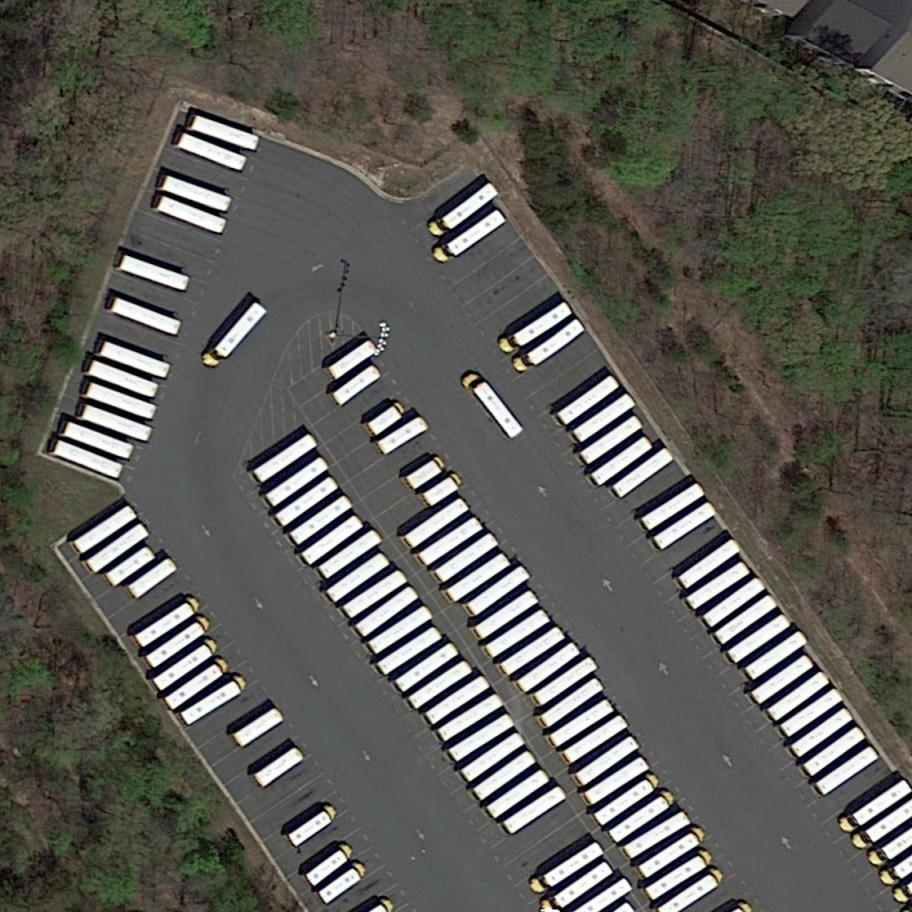large-vehicle: (199, 300, 269, 372), (429, 206, 507, 267), (509, 317, 588, 377), (527, 837, 605, 897), (461, 368, 524, 442), (425, 182, 502, 241), (496, 299, 573, 357), (537, 861, 617, 912), (592, 772, 664, 828), (144, 614, 215, 670), (151, 637, 222, 692), (162, 656, 233, 711), (638, 824, 709, 879), (353, 581, 420, 639), (402, 494, 471, 550), (416, 513, 486, 568), (317, 525, 385, 581), (324, 549, 392, 605), (393, 640, 462, 695), (608, 789, 677, 844), (459, 730, 528, 785), (134, 595, 204, 649), (644, 848, 715, 901), (621, 808, 692, 861), (533, 654, 600, 710), (788, 704, 855, 760), (743, 627, 810, 683), (424, 671, 492, 726), (264, 454, 332, 509), (273, 474, 341, 529), (288, 493, 356, 548), (485, 766, 553, 821), (252, 432, 321, 486), (179, 674, 250, 726), (300, 512, 367, 567), (571, 390, 638, 445), (749, 651, 816, 706), (376, 623, 444, 677), (72, 502, 140, 556), (366, 604, 435, 657), (583, 753, 652, 806), (539, 675, 605, 730), (677, 537, 744, 591), (589, 434, 656, 488), (574, 733, 641, 787), (778, 685, 845, 739), (473, 588, 541, 641), (725, 612, 793, 665), (548, 696, 616, 749), (448, 711, 517, 763), (517, 641, 582, 696), (802, 723, 867, 778), (434, 529, 500, 583), (714, 592, 780, 646), (342, 568, 409, 621), (407, 658, 474, 711), (684, 559, 751, 612), (500, 625, 567, 678), (640, 479, 707, 532), (502, 783, 569, 836), (562, 713, 630, 765), (767, 669, 832, 723), (446, 551, 512, 604), (51, 438, 127, 484), (436, 692, 504, 743), (473, 749, 538, 802), (85, 522, 151, 574), (485, 607, 552, 658), (703, 575, 766, 629), (467, 563, 531, 616), (556, 374, 620, 427), (611, 447, 676, 499), (579, 414, 644, 466), (176, 130, 250, 175), (816, 745, 881, 796), (86, 357, 161, 401), (652, 501, 718, 551), (84, 379, 160, 422), (656, 866, 727, 912), (188, 112, 262, 155), (98, 339, 173, 381), (111, 295, 184, 338), (62, 420, 136, 462), (161, 174, 234, 216), (156, 195, 229, 237), (81, 403, 154, 444), (851, 804, 912, 853), (118, 253, 191, 293), (302, 841, 359, 890), (252, 744, 309, 790), (286, 802, 341, 849), (316, 859, 371, 906), (104, 543, 158, 589), (127, 556, 180, 601), (327, 338, 381, 382), (232, 706, 286, 749), (376, 414, 429, 456), (331, 364, 382, 407), (421, 469, 465, 509), (364, 399, 409, 438), (404, 454, 448, 491)
